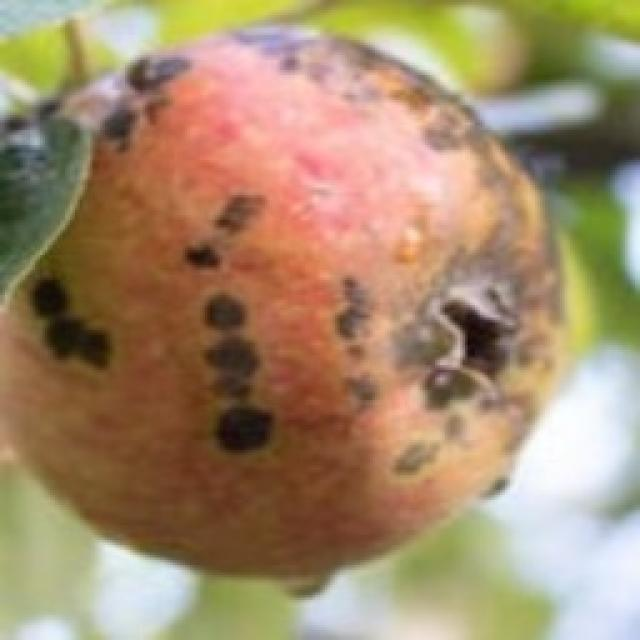defective: (0, 18, 570, 595)
